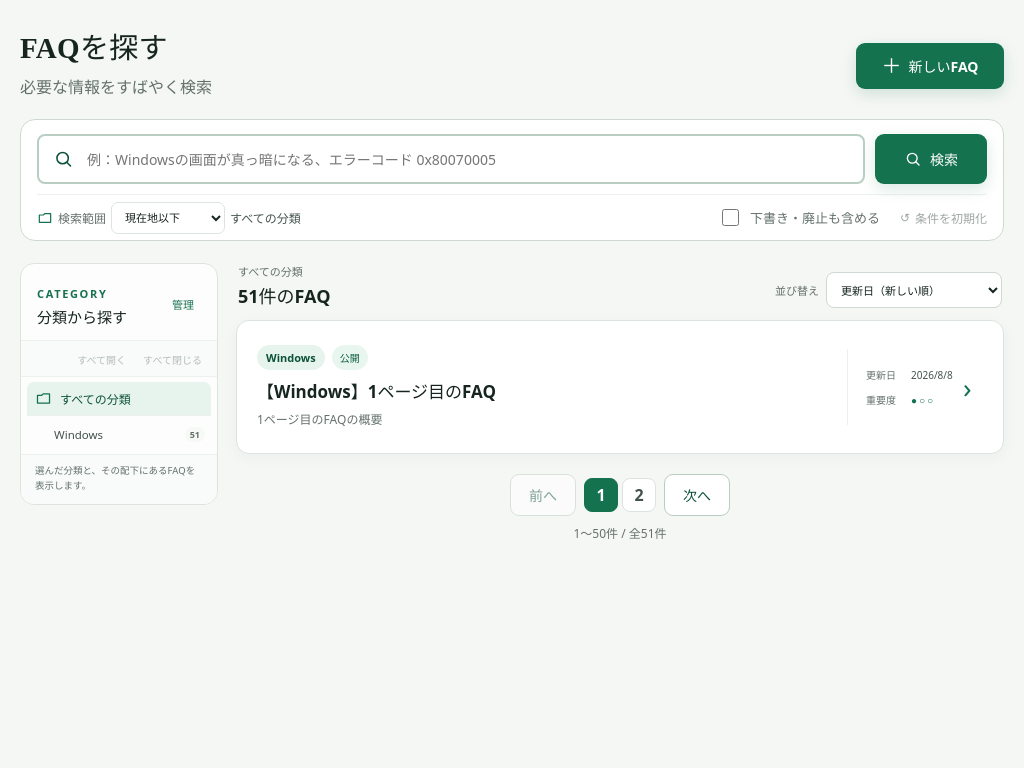
Test case: SearchPage › moves through search results in pages of fifty
(page scrolled)
expect the heading "【Windows】1ページ目のFAQ" is shown: met, box [257, 380, 496, 403]
expect the heading "51件のFAQ" is shown: met, box [238, 282, 330, 308]
Click the button named "2ページ目".
click(639, 495)  # box [622, 478, 656, 512]
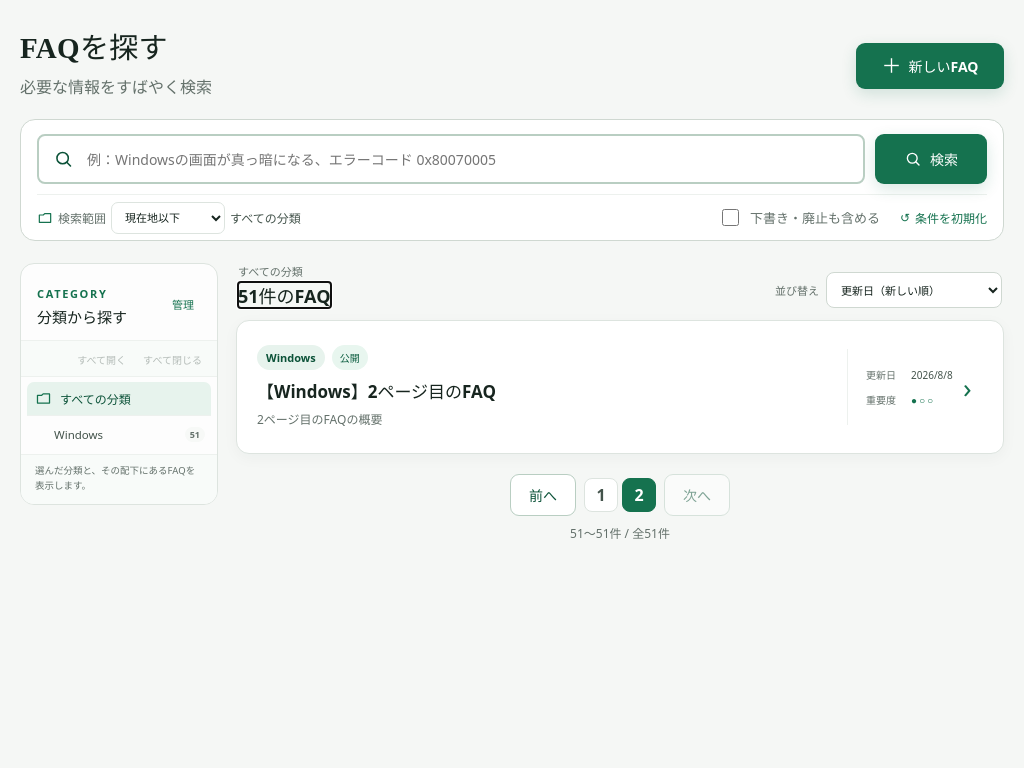
expect the heading "【Windows】2ページ目のFAQ" is shown: met, box [257, 380, 496, 403]
expect the text "51〜51件 / 全51件" is shown: met, box [570, 525, 670, 542]
